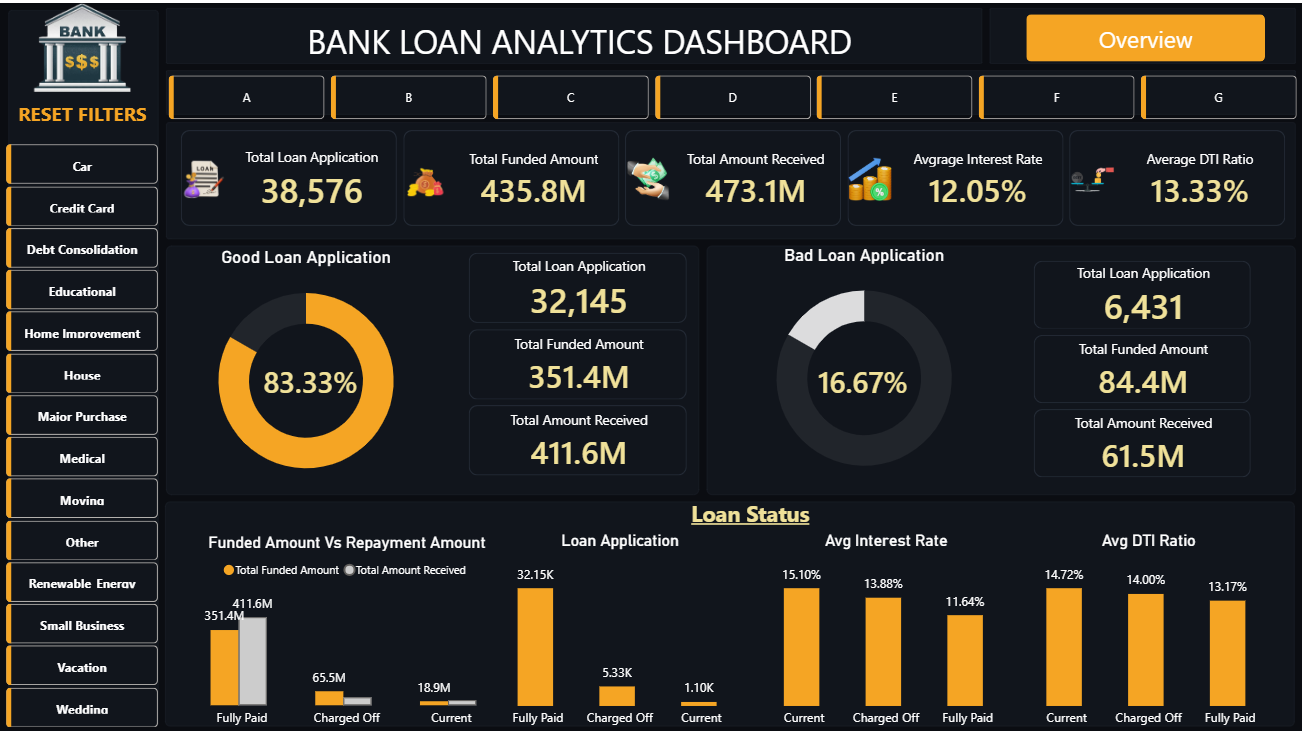

The page's visual inventory and layout, read from the dashboard file:
{"tool":"powerbi","page":{"name":"Summary","canvas":[1280,720],"ordinal":0},"visuals":[{"type":"cardVisual","fields":{"Data":["financial_loan.Total Loan Application","financial_loan.Total Funded Amount","financial_loan.Total Amount Received","financial_loan.Avg Int Rate","financial_loan.Avg DTI Rate"]},"box":[160.7,108,1119,128.8],"z":0},{"type":"donutChart","title":"Good Loan Application","fields":{"Category":["financial_loan.Good_Vs_Bad_Loan"],"Y":["financial_loan.Total Loan Application"]},"box":[169.3,239.3,262.6,244.2],"z":1000},{"type":"donutChart","title":"Bad Loan Application","fields":{"Category":["financial_loan.Good_Vs_Bad_Loan"],"Y":["financial_loan.Total Loan Application"]},"box":[720.2,236.8,256.4,244.2],"z":2000},{"type":"cardVisual","fields":{"Data":["_Measures.Good Loan %"]},"box":[169.3,319,231.9,103.1],"z":3000},{"type":"cardVisual","fields":{"Data":["_Measures.Bad Loan %"]},"box":[711.7,319,231.9,103.1],"z":4000},{"type":"cardVisual","fields":{"Data":["financial_loan.Total Loan Application","financial_loan.Total Funded Amount","financial_loan.Total Amount Received"],"Rows":["financial_loan.Good_Vs_Bad_Loan"]},"box":[423.3,177.9,288.3,305.5],"z":5000},{"type":"cardVisual","fields":{"Data":["financial_loan.Total Loan Application","financial_loan.Total Funded Amount","financial_loan.Total Amount Received"],"Rows":["financial_loan.Good_Vs_Bad_Loan"]},"box":[977.9,154.6,287.1,330.1],"z":6000},{"type":"clusteredColumnChart","title":"Funded Amount Vs Repayment Amount","fields":{"Category":["financial_loan.LOAN_STATUS"],"Y":["_Measures.Total Funded Amount","_Measures.Total Amount Received"]},"box":[160.7,520.2,392.6,198.8],"z":7000},{"type":"clusteredColumnChart","title":"Loan Application","fields":{"Category":["financial_loan.LOAN_STATUS"],"Y":["_Measures.Total Loan Application"]},"box":[523.9,517.8,274.8,201.2],"z":8000},{"type":"textbox","box":[673.6,481,144.8,40.5],"z":9000},{"type":"clusteredColumnChart","title":"Avg Interest Rate","fields":{"Category":["financial_loan.LOAN_STATUS"],"Y":["_Measures.Avgrage Interest Rate"]},"box":[754.6,517.8,274.8,201.2],"z":10000},{"type":"clusteredColumnChart","title":"Avg DTI Ratio","fields":{"Category":["financial_loan.LOAN_STATUS"],"Y":["_Measures.Average DTI Ratio"]},"box":[1004.9,517.8,274.8,201.2],"z":11000},{"type":"image","box":[1.2,0,159.5,87.1],"z":12000},{"type":"advancedSlicerVisual","fields":{"Values":["financial_loan.PURPOSE"]},"box":[1.2,133.7,159.5,586.5],"z":13000},{"type":"advancedSlicerVisual","fields":{"Values":["financial_loan.GRADE"]},"box":[160.7,66.3,1119,54],"z":14000},{"type":"actionButton","box":[8.6,93.3,144.8,29.4],"z":15000},{"type":"textbox","box":[255.2,11,627,55.2],"z":16000},{"type":"actionButton","box":[1007.4,11,234.4,46.6],"z":17000}]}

Visuals, with their boxes in screenshot pixels (x1, y1, x2, y2), scaled from the page's 1280x720 canvas onto the 1302x731 screenshot:
cardVisual - financial_loan.Total Loan Application x financial_loan.Total Funded Amount: bbox=[163, 110, 1301, 240]
"Good Loan Application" donutChart: bbox=[172, 243, 439, 491]
"Bad Loan Application" donutChart: bbox=[733, 240, 993, 488]
cardVisual - _Measures.Good Loan %: bbox=[172, 324, 408, 429]
cardVisual - _Measures.Bad Loan %: bbox=[724, 324, 960, 429]
cardVisual - financial_loan.Total Loan Application x financial_loan.Total Funded Amount: bbox=[431, 181, 724, 491]
cardVisual - financial_loan.Total Loan Application x financial_loan.Total Funded Amount: bbox=[995, 157, 1287, 492]
"Funded Amount Vs Repayment Amount" clusteredColumnChart: bbox=[163, 528, 563, 730]
"Loan Application" clusteredColumnChart: bbox=[533, 526, 812, 730]
textbox: bbox=[685, 488, 832, 529]
"Avg Interest Rate" clusteredColumnChart: bbox=[768, 526, 1047, 730]
"Avg DTI Ratio" clusteredColumnChart: bbox=[1022, 526, 1301, 730]
image: bbox=[1, 0, 163, 88]
advancedSlicerVisual - financial_loan.PURPOSE: bbox=[1, 136, 163, 730]
advancedSlicerVisual - financial_loan.GRADE: bbox=[163, 67, 1301, 122]
actionButton: bbox=[9, 95, 156, 125]
textbox: bbox=[260, 11, 897, 67]
actionButton: bbox=[1025, 11, 1263, 58]
